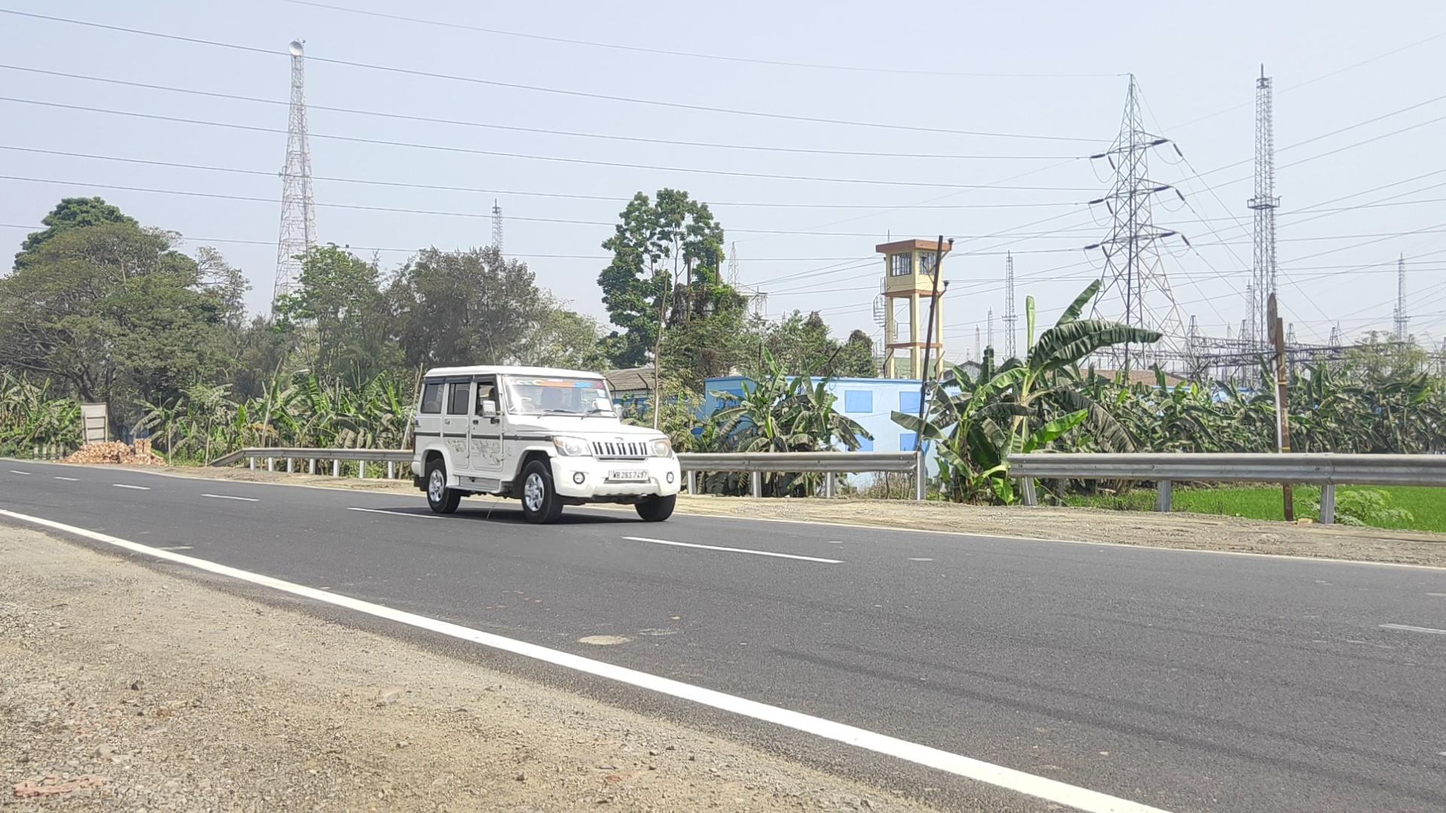car: (411, 365, 681, 523)
